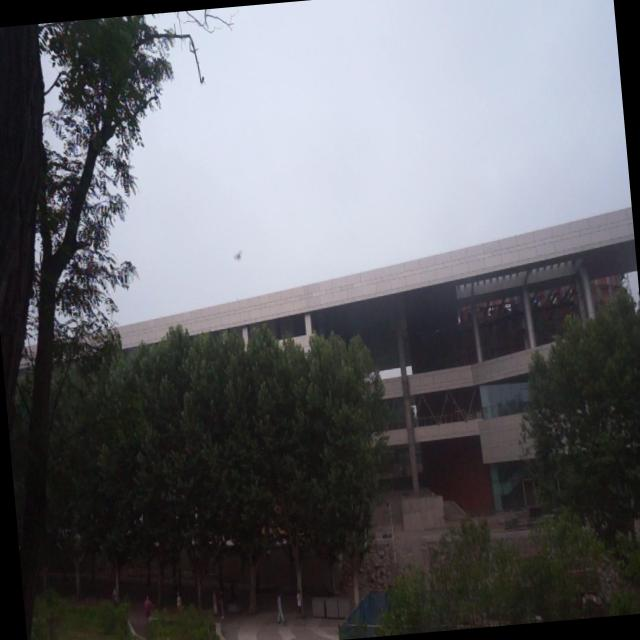drone: (230, 247, 245, 264)
